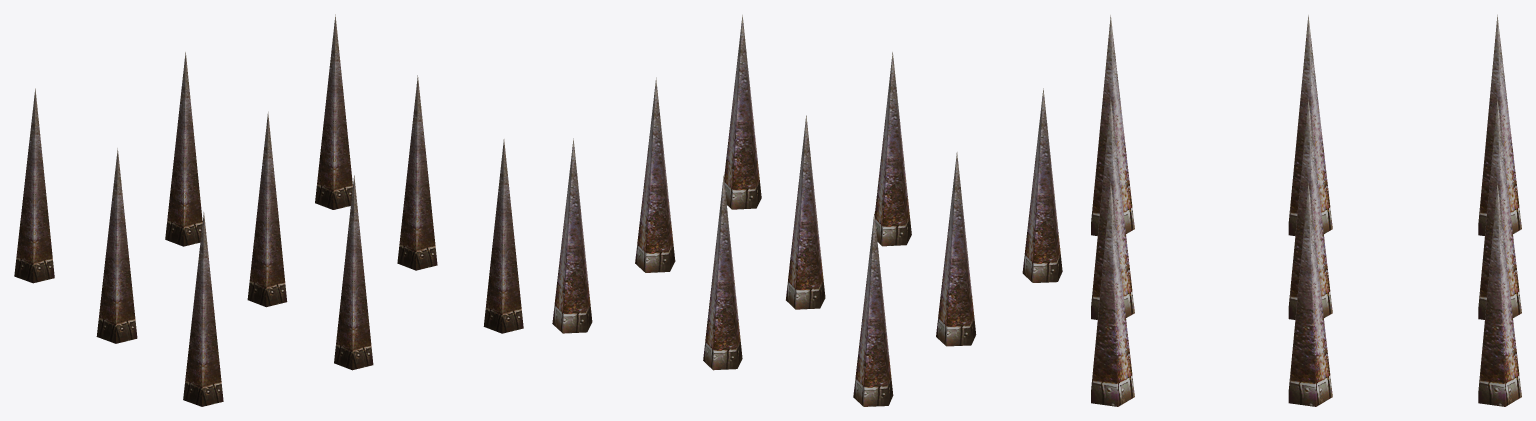
The model's file is Scene_dingci_001.FBX.
The picture shows the model from 3 angles, left to right: view 1: azimuth 30°, elevation 25°; view 2: azimuth 150°, elevation 25°; view 3: azimuth 270°, elevation 25°; orthographic projection. The views are drawn at different scales.
Visible parts, largest first — view 1: Scene_dingci_001; view 2: Scene_dingci_001; view 3: Scene_dingci_001.
Part boxes in pixels (box(x1,y1,x2,y2)): Scene_dingci_001: box(14, 14, 523, 406); Scene_dingci_001: box(552, 15, 1062, 406); Scene_dingci_001: box(1091, 14, 1521, 406).
Bounding box in the file's own units: 3.5 × 1.87 × 3.4.
